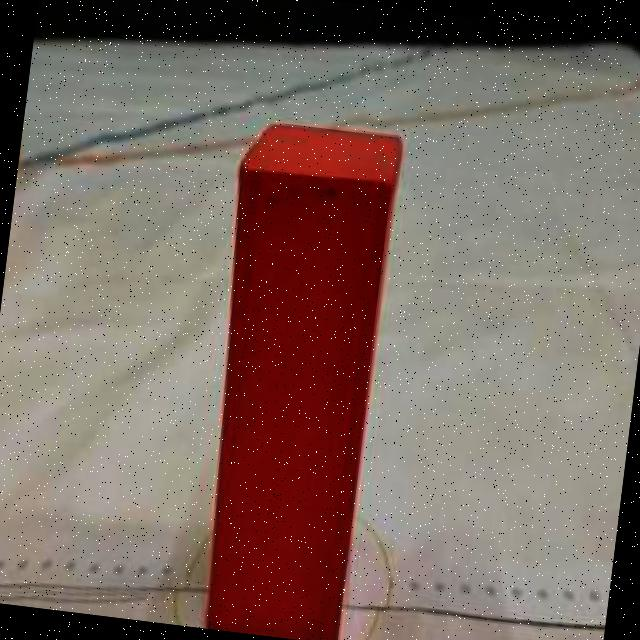redbox: (196, 114, 403, 640)
